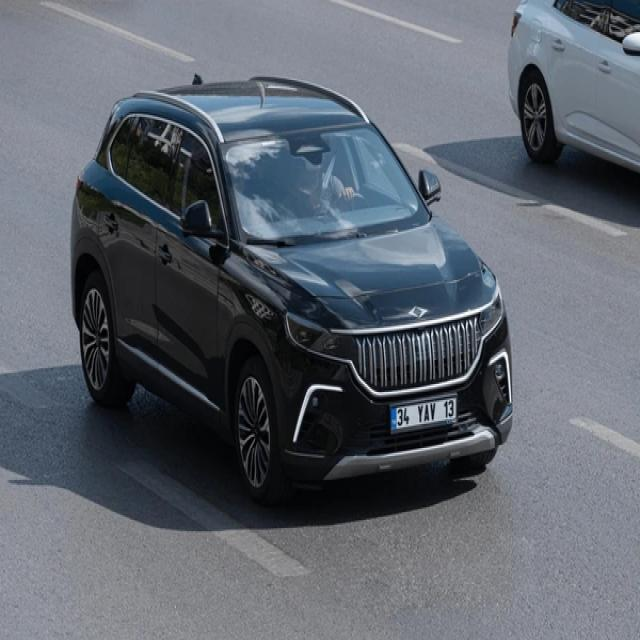togg: (404, 304, 430, 324)
